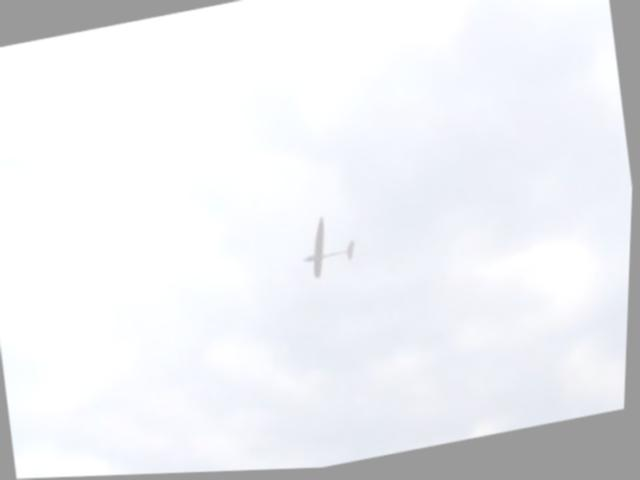uav: (292, 205, 367, 291)
